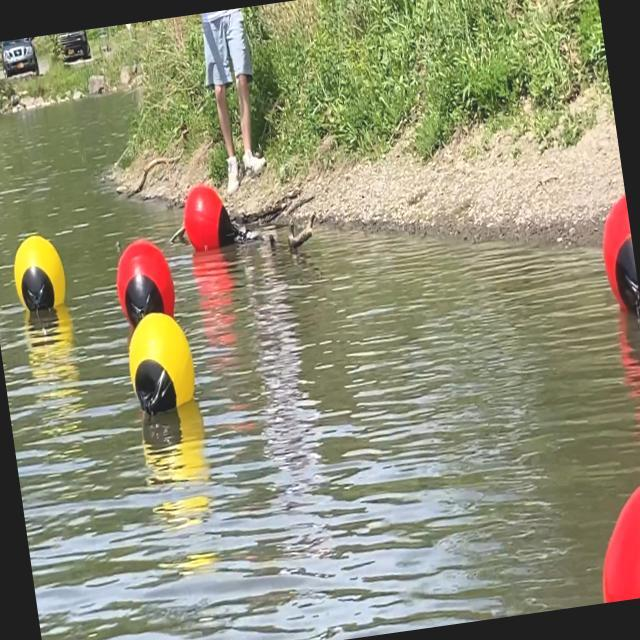buoy: (121, 307, 202, 421), (585, 471, 640, 602), (108, 232, 180, 332), (595, 183, 640, 325), (10, 229, 72, 322), (178, 176, 242, 258)
